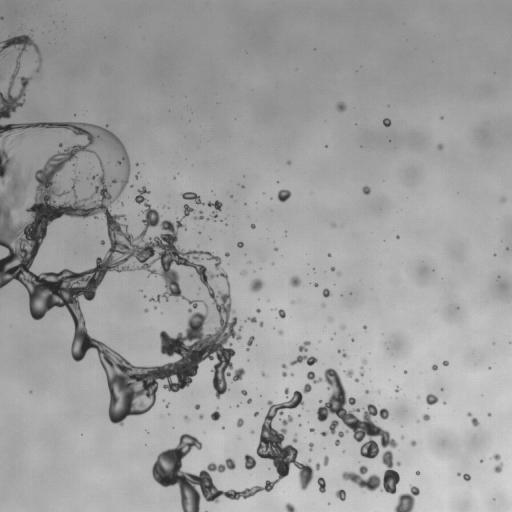droplet: (394, 485, 419, 511), (206, 200, 222, 220), (277, 189, 291, 202), (244, 454, 256, 469), (250, 279, 263, 291), (233, 368, 245, 380), (426, 394, 438, 405), (335, 489, 346, 500), (298, 341, 310, 351), (317, 477, 325, 492), (290, 276, 300, 287), (211, 409, 220, 420), (336, 102, 346, 111), (494, 463, 503, 473), (285, 503, 296, 511), (322, 288, 331, 297), (194, 211, 203, 219), (471, 417, 479, 426), (362, 186, 370, 194), (278, 309, 285, 318), (344, 370, 353, 377), (236, 418, 243, 427), (383, 118, 390, 126), (463, 474, 470, 481), (422, 414, 430, 420), (247, 317, 256, 322), (323, 456, 328, 465), (493, 454, 500, 460), (284, 388, 289, 396), (410, 440, 416, 446), (237, 242, 243, 247), (442, 360, 448, 365), (395, 386, 400, 392), (241, 390, 247, 395), (309, 443, 313, 450), (432, 365, 437, 370), (282, 372, 287, 377), (335, 440, 340, 445), (438, 144, 442, 149), (501, 197, 505, 202), (100, 240, 104, 245), (259, 321, 263, 326), (195, 404, 199, 409), (184, 416, 188, 421), (309, 428, 314, 432), (251, 224, 255, 228), (225, 252, 229, 256), (256, 308, 260, 312), (362, 360, 366, 364), (282, 364, 286, 368), (247, 399, 251, 403), (254, 412, 258, 416), (467, 412, 471, 416), (199, 414, 203, 418), (293, 438, 297, 442), (59, 143, 62, 147), (331, 267, 334, 271), (241, 271, 245, 274), (144, 309, 148, 312), (341, 325, 344, 329), (363, 325, 366, 329), (262, 372, 265, 376), (314, 283, 317, 286), (188, 309, 191, 312), (328, 318, 331, 321), (279, 330, 282, 333), (290, 373, 293, 376), (360, 372, 363, 375), (355, 378, 358, 381), (416, 471, 419, 474), (332, 223, 334, 226), (396, 236, 399, 238), (328, 254, 331, 256), (190, 274, 193, 276), (322, 304, 324, 307), (239, 326, 241, 329), (366, 390, 368, 393), (319, 400, 321, 403), (251, 430, 253, 433), (457, 473, 460, 475), (0, 17, 2, 19), (37, 67, 39, 69), (288, 161, 290, 163), (73, 163, 75, 165), (136, 174, 138, 176), (242, 185, 244, 187), (121, 203, 123, 205), (275, 248, 277, 250), (166, 404, 168, 406), (488, 413, 490, 415), (401, 436, 403, 438)
ligament: (0, 124, 241, 423), (152, 368, 400, 511), (0, 35, 39, 119), (290, 355, 317, 365), (181, 192, 203, 204), (247, 336, 254, 346), (337, 350, 347, 357), (38, 58, 41, 65)
